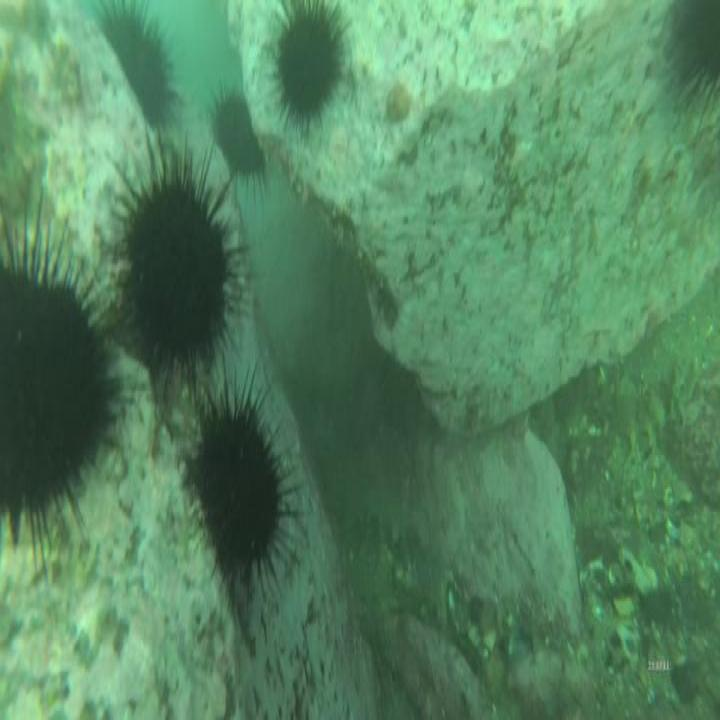echinus: (0, 188, 121, 586), (94, 124, 257, 416), (180, 347, 308, 615), (87, 0, 188, 135), (266, 0, 360, 133), (204, 75, 284, 213)
